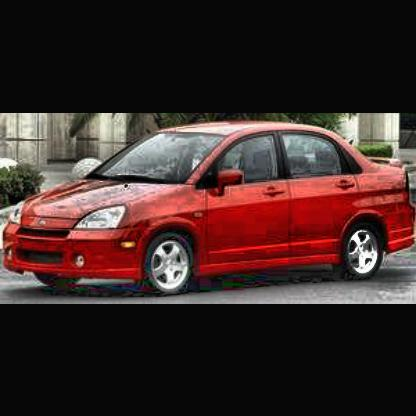Suzuki Aerio Sedan 2007: (6, 120, 416, 298)
